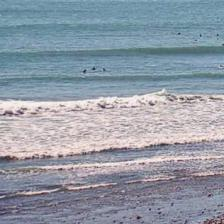surfer: (91, 66, 96, 71), (83, 69, 87, 73), (102, 68, 106, 72), (174, 32, 181, 34), (216, 33, 219, 36), (217, 38, 220, 41), (193, 39, 197, 41), (199, 34, 201, 37), (220, 65, 223, 67), (222, 43, 223, 46)
